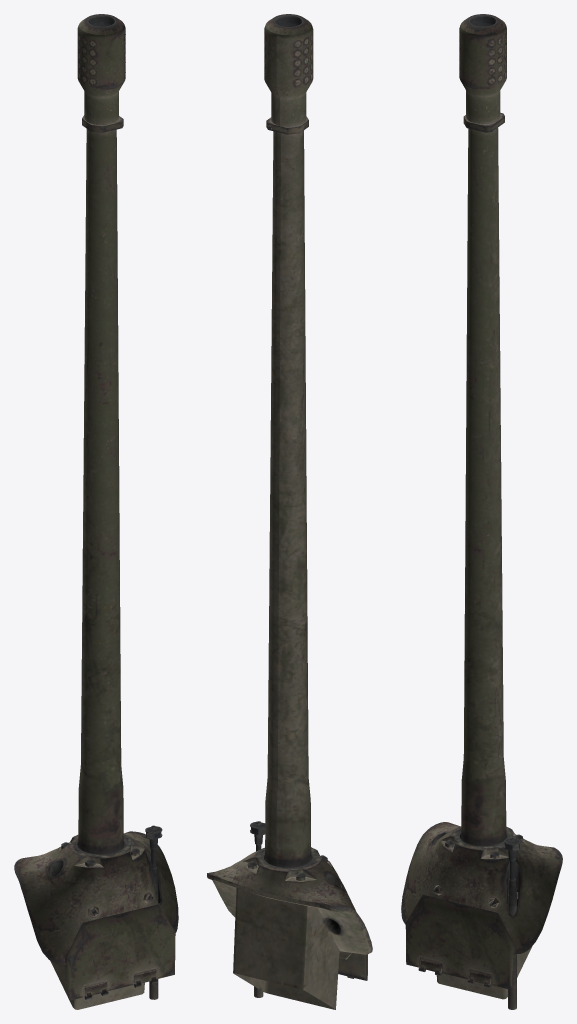
The model's file is Gun_05.glb.
The picture shows the model from 3 angles, left to right: view 1: azimuth 30°, elevation 25°; view 2: azimuth 150°, elevation 25°; view 3: azimuth 330°, elevation 25°; orthographic projection. The views are drawn at different scales.
Parts seen in each view (by area): view 1: set_0_group_0; view 2: set_0_group_0; view 3: set_0_group_0.
Part boxes in pixels (x1,y1,x2,y2): set_0_group_0: (14, 14, 178, 1009); set_0_group_0: (207, 14, 372, 1009); set_0_group_0: (401, 14, 562, 1009).
Size of the model in its own units: 0.9755 by 6.33 by 0.5596.
Materials: 1 (1 with a texture image).
